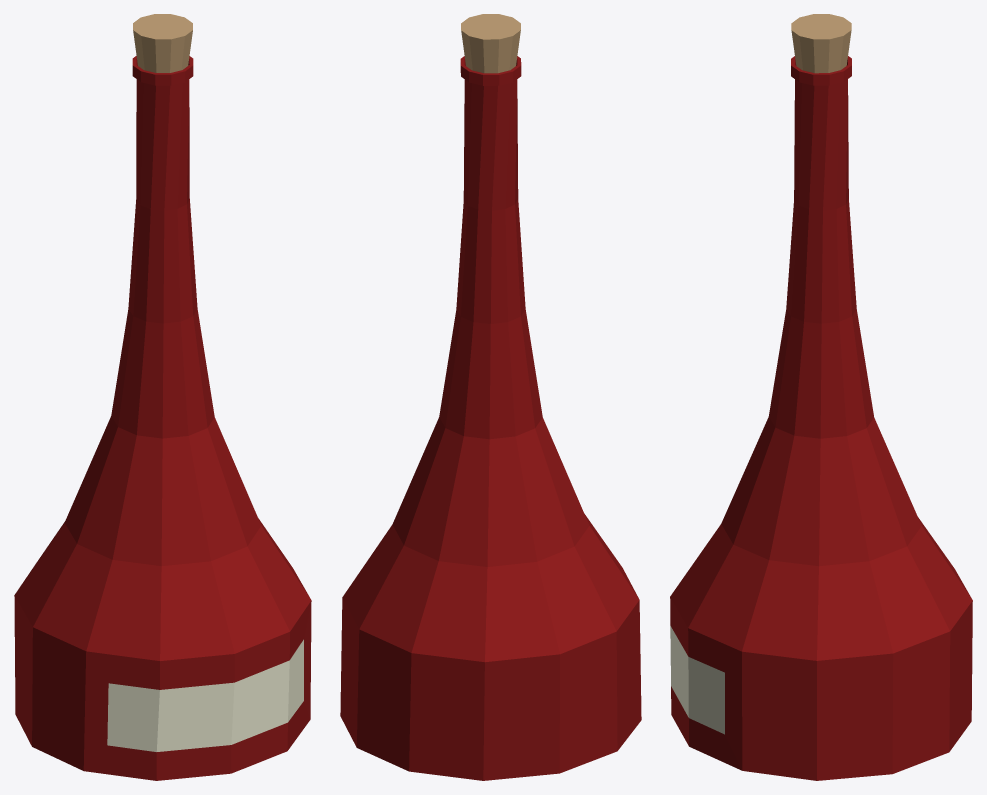
Rendered from potion_red_3.fbx.
3 views of the same model, side by side, from view 1: azimuth 30°, elevation 25°; view 2: azimuth 150°, elevation 25°; view 3: azimuth 270°, elevation 25° (orthographic).
Visible parts, largest first — view 1: potion_red_3; view 2: potion_red_3; view 3: potion_red_3.
Part boxes in pixels (x1=…): potion_red_3: x1=14, y1=14, x2=311, y2=780; potion_red_3: x1=340, y1=14, x2=641, y2=780; potion_red_3: x1=670, y1=14, x2=972, y2=780.
Size of the model in its own units: 19.87 by 50.96 by 20.22.
